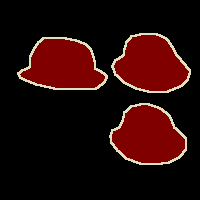hat: (112, 33, 190, 92), (110, 104, 186, 164), (18, 38, 107, 89)
